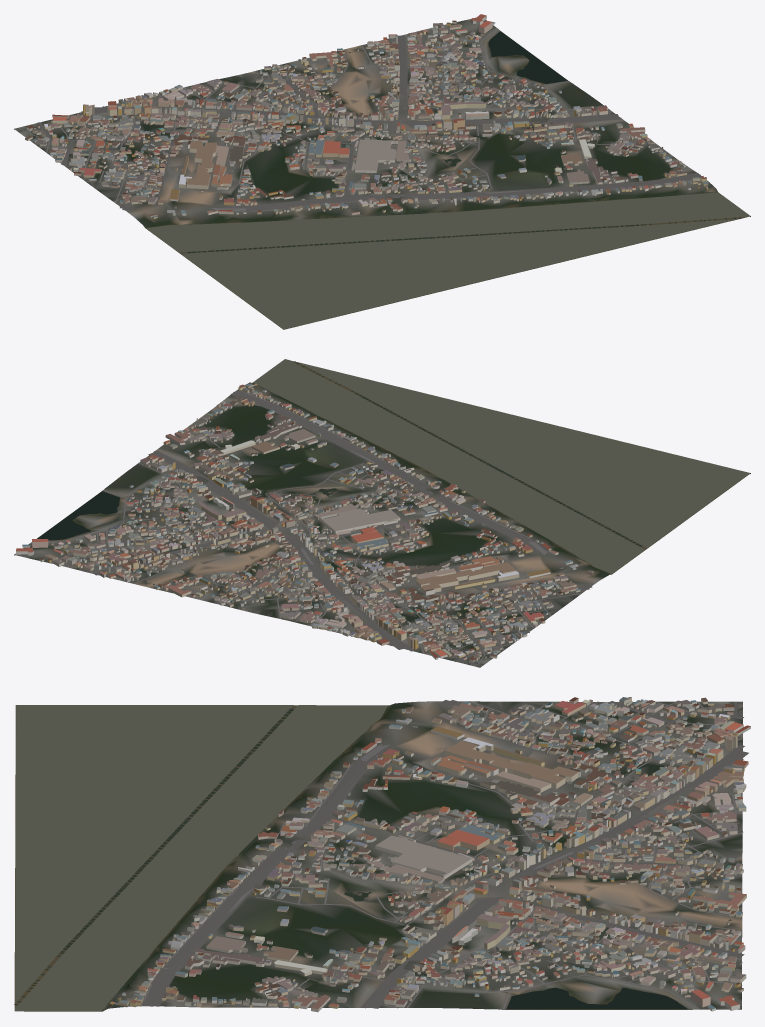
3 views of the same model, one above another, from view 1: azimuth 30°, elevation 25°; view 2: azimuth 150°, elevation 25°; view 3: azimuth 270°, elevation 25° (orthographic). The views are drawn at different scales.
Visible parts, largest first — view 1: ground, buildings, water, roads; view 2: buildings, ground, water, roads; view 3: buildings, ground, water, roads.
Part boxes in pixels (<box>): ground: <box>14,17,750,329</box>; buildings: <box>25,14,708,218</box>; water: <box>146,31,749,329</box>; roads: <box>16,24,709,211</box>; buildings: <box>16,383,593,662</box>; ground: <box>14,359,750,667</box>; water: <box>37,359,749,584</box>; roads: <box>30,389,592,665</box>; buildings: <box>110,697,750,1012</box>; ground: <box>14,701,742,1011</box>; water: <box>14,705,731,1010</box>; roads: <box>125,700,748,1009</box>.
Bounding box in the file's own units: 1423 × 39.79 × 1421.
